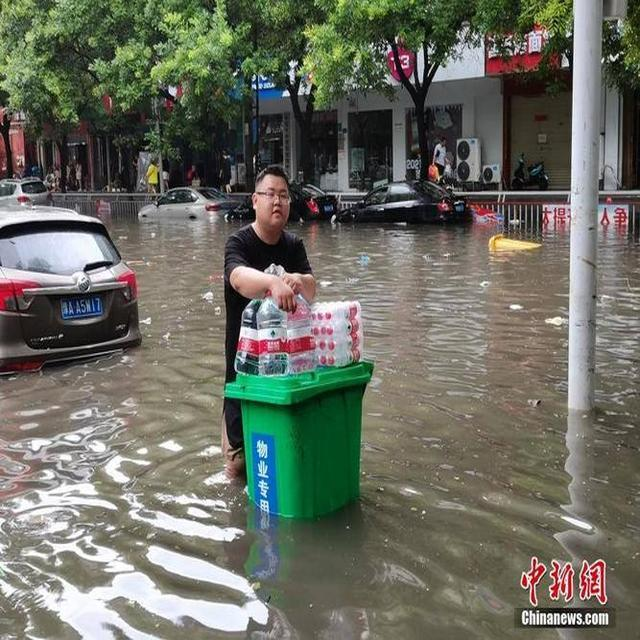Car-RiskLevel3: (0, 201, 160, 381), (333, 169, 473, 236), (136, 185, 246, 224)
Person-RiskLevel2: (215, 158, 331, 501)
